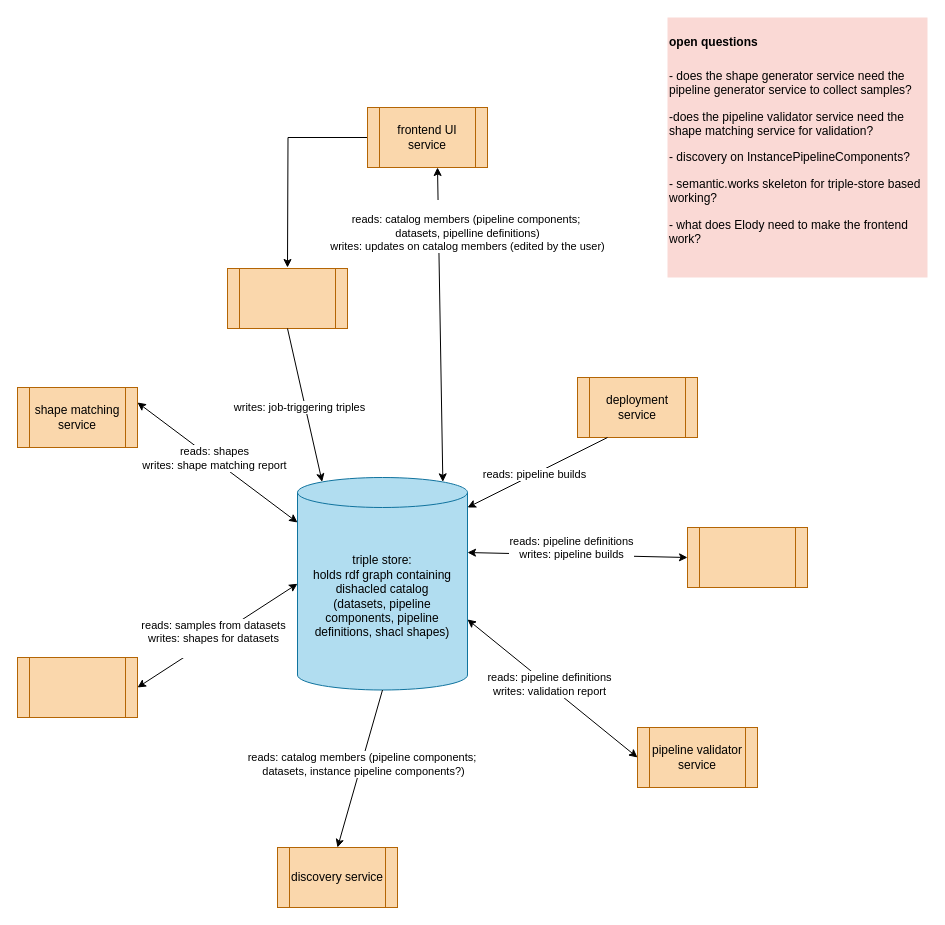
The diagram is 945 pixels wide and 925 high, and some of its shapes have lost their labels. The shapes that lost their labels are listed below. From the top down, each one's centre as x and y in pixels, then its label:
At point (287, 298): "controller service (CLI)".
At point (747, 557): "pipeline generator service".
At point (77, 687): "shape generator service".
